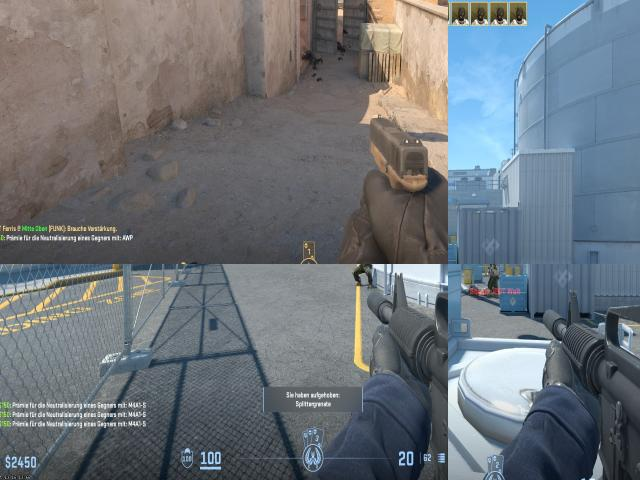Dead: (300, 47, 323, 67), (481, 286, 496, 300), (335, 40, 347, 54), (468, 282, 478, 298)
T: (353, 264, 374, 286), (491, 264, 498, 293), (487, 264, 493, 291)
T-Head: (492, 264, 497, 268), (489, 264, 492, 267)
